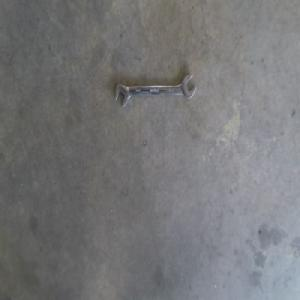Wrench: (114, 74, 196, 107)
